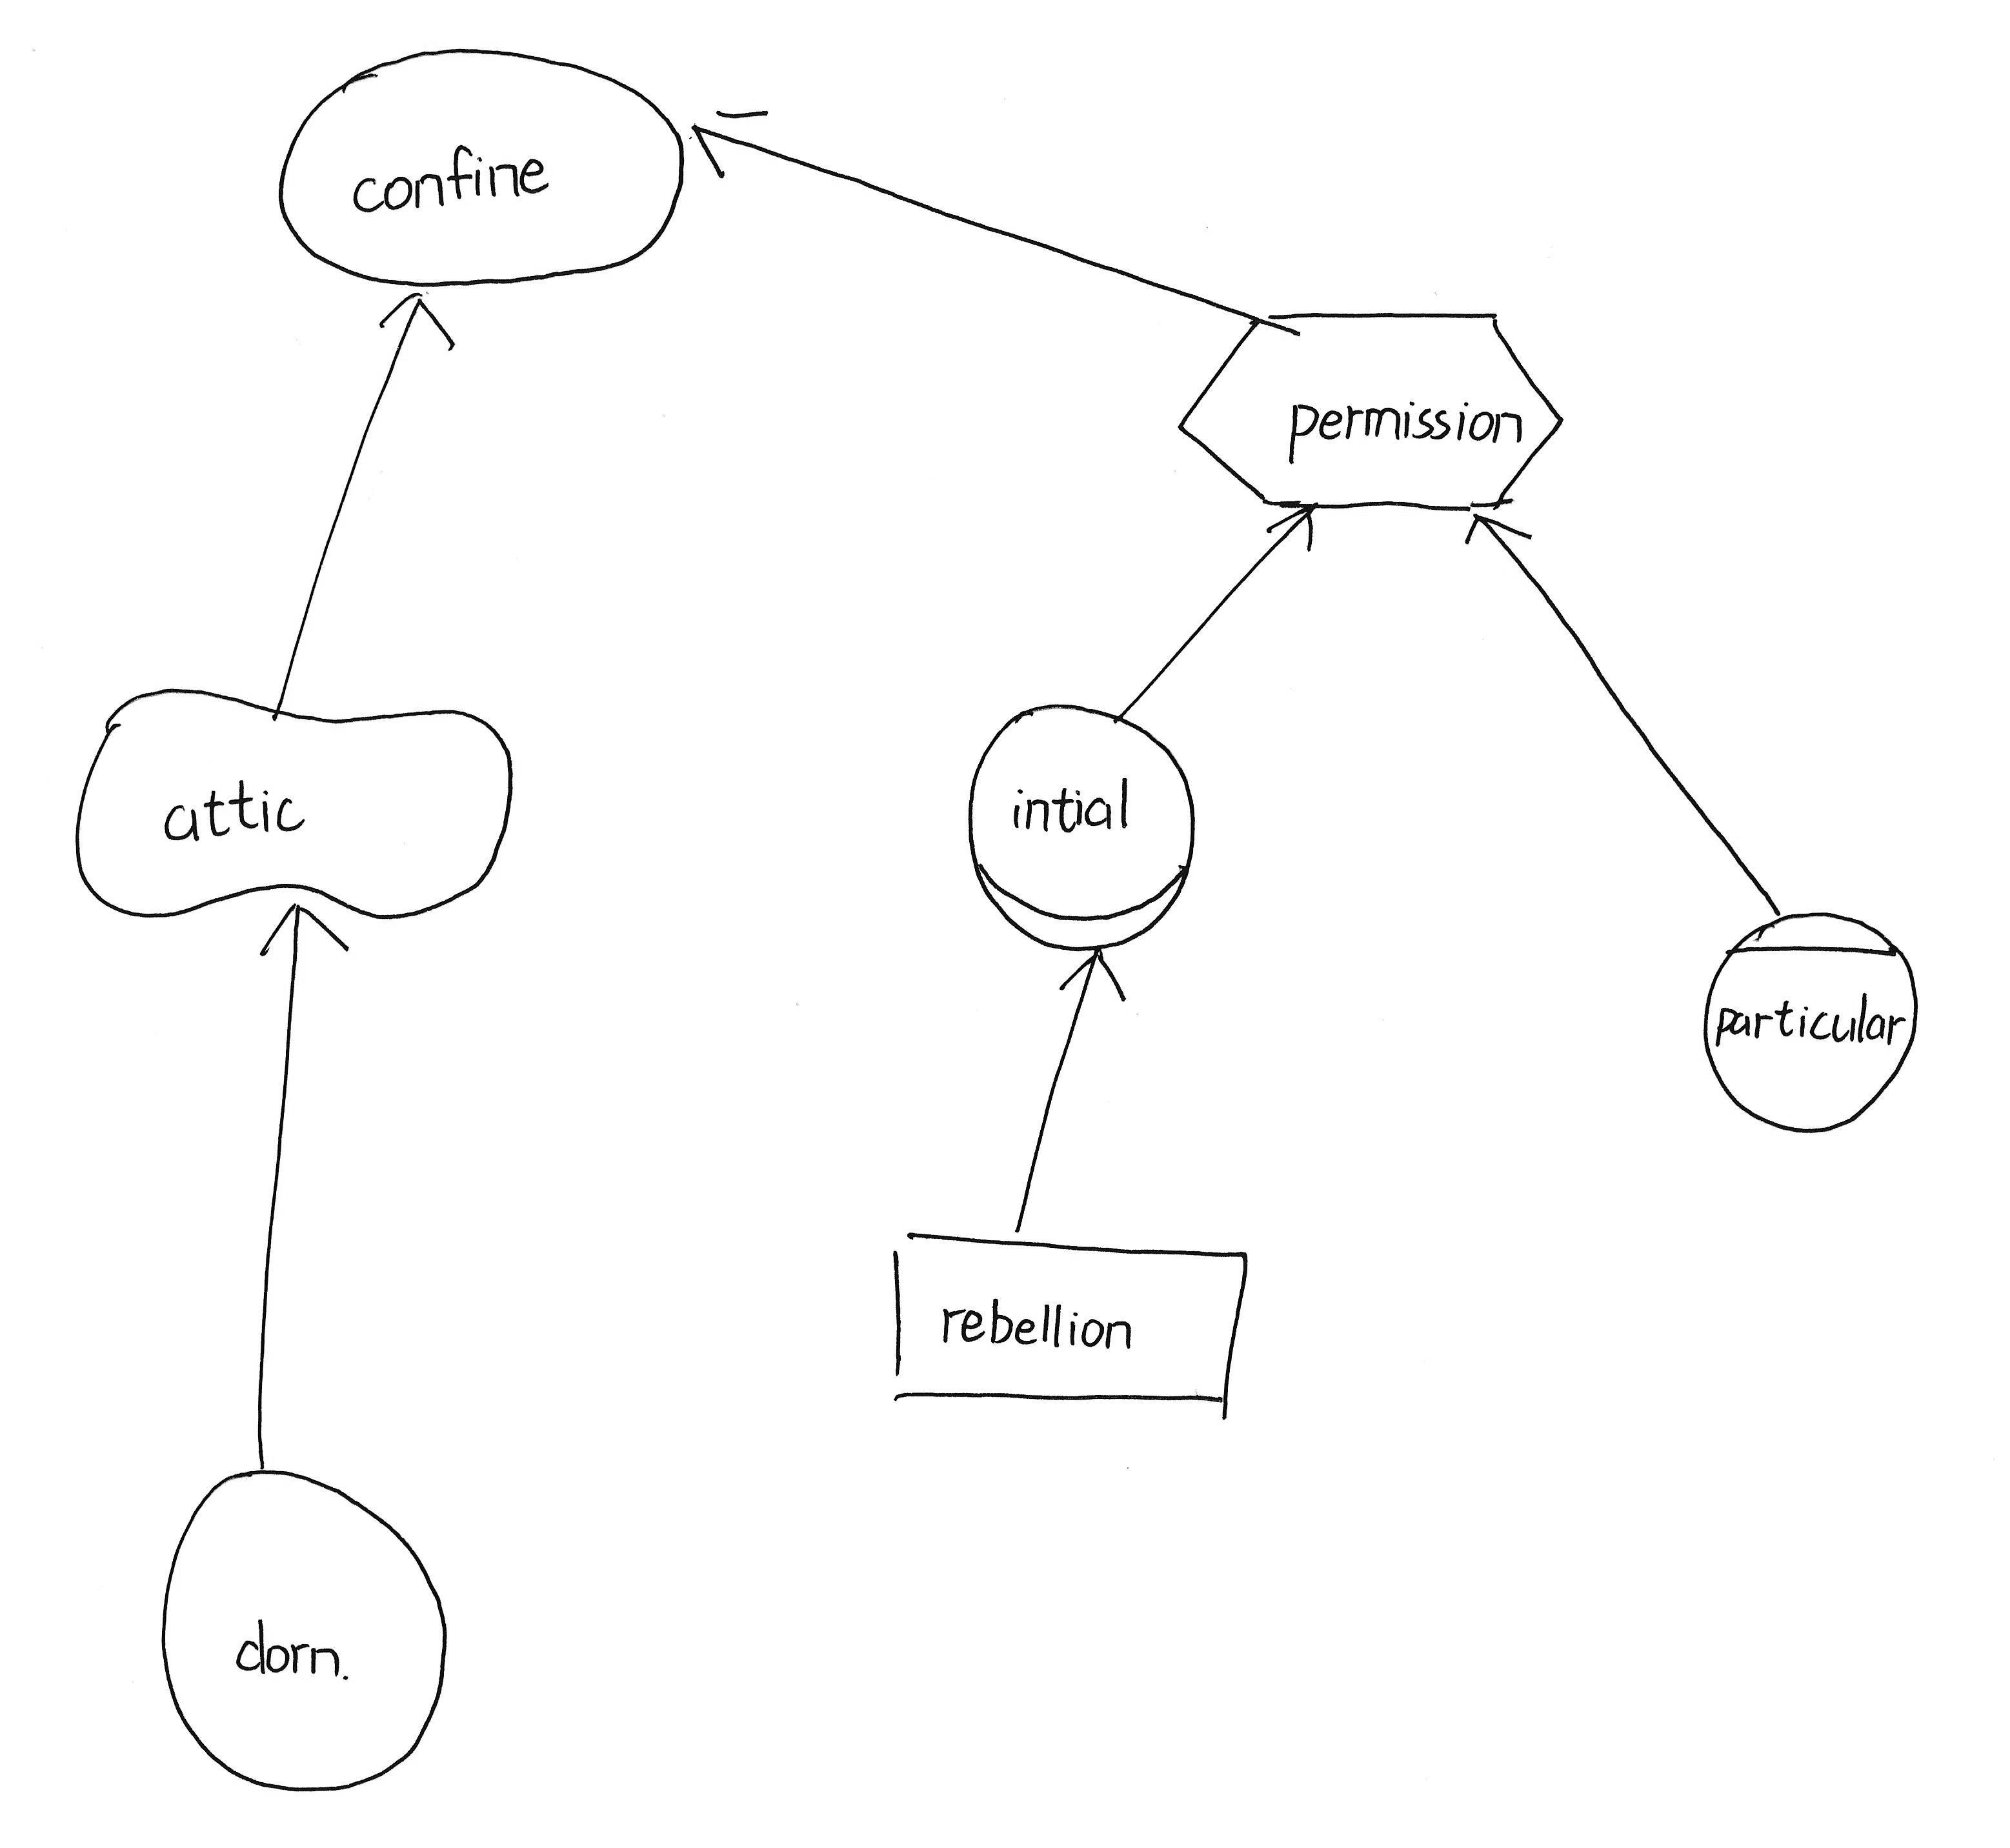actor: (142, 1450, 464, 1804)
agent: (1688, 892, 1935, 1149)
arrow: (683, 89, 784, 198), (242, 892, 359, 983), (366, 284, 471, 370), (1444, 504, 1543, 573), (1049, 939, 1142, 1011), (1262, 503, 1327, 568)
goal: (254, 28, 702, 315)
quality: (54, 676, 531, 934)
resource: (865, 1214, 1266, 1428)
role: (949, 683, 1212, 965)
task: (1164, 280, 1578, 541)
